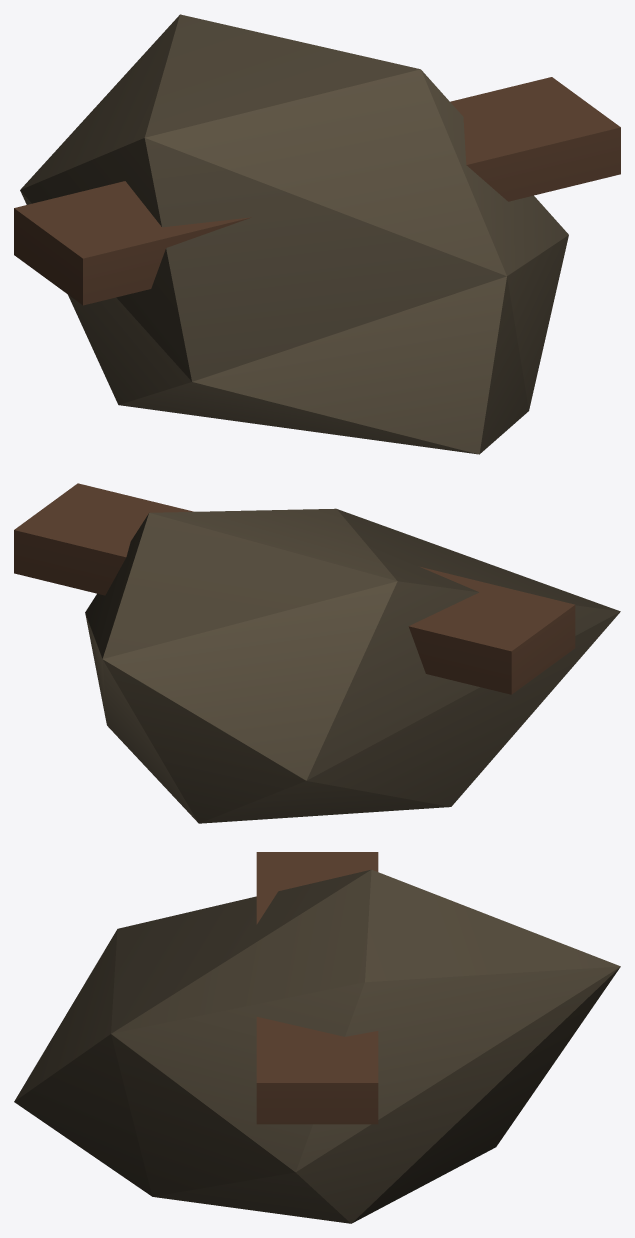
Rendered from logistic-robot.glb.
3 views of the same model, one above another, from view 1: azimuth 30°, elevation 25°; view 2: azimuth 150°, elevation 25°; view 3: azimuth 270°, elevation 25° (orthographic). The views are drawn at different scales.
Parts seen in each view (by area): view 1: logistic-robot; view 2: logistic-robot; view 3: logistic-robot.
Boxes of the visible parts, x1,y1,x2,y2 form: logistic-robot: (14,14,620,454); logistic-robot: (14,483,620,823); logistic-robot: (14,852,620,1223).
Bounding box in the file's own units: 0.18 × 0.08 × 0.2.
